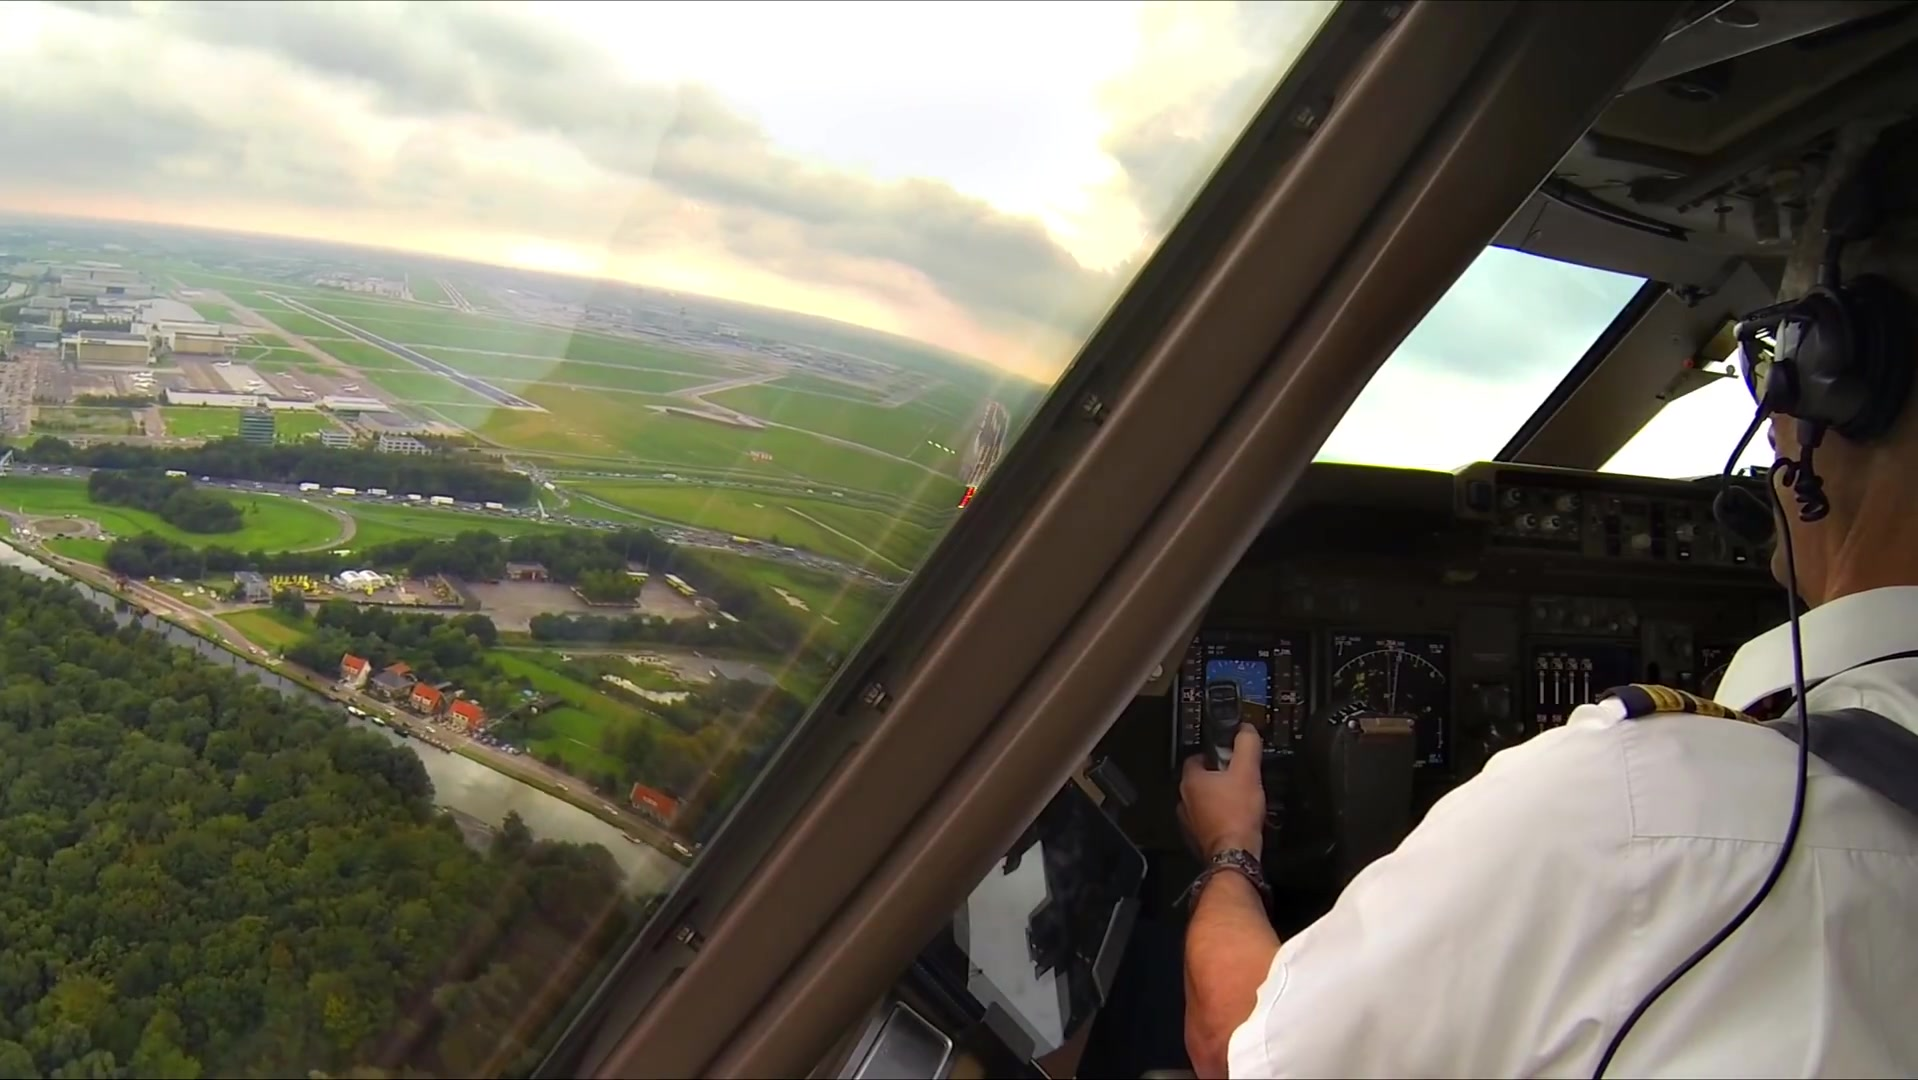runway: (277, 287, 559, 419), (951, 395, 1016, 500)
